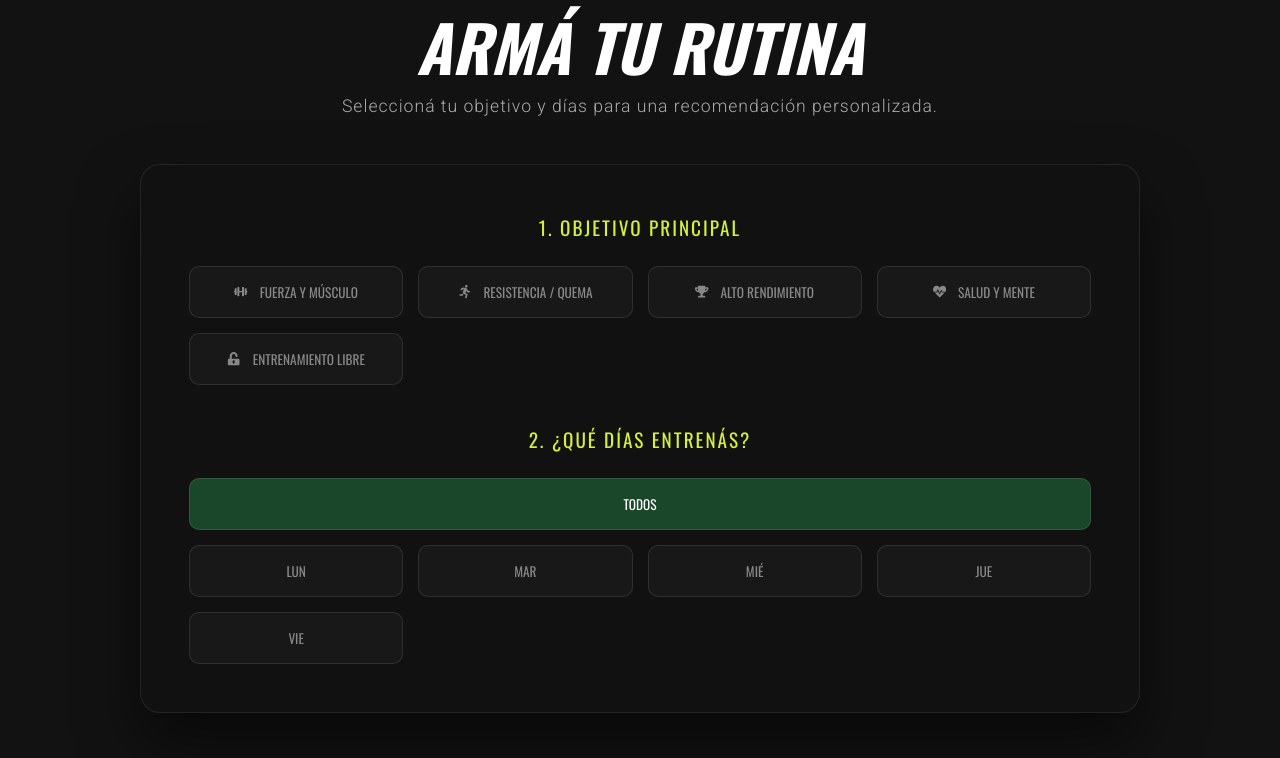
Scenario: Horarios — filtrado por objetivo › objetivo "Entrenamiento Libre" (tipo=libre) solo trae clases "Gimnasio Libre" del día elegido
The width and height of the screenshot is (1280, 758).
(page scrolled)
Click the button "Entrenamiento Libre": click(296, 359) x1=189 y1=333 x2=403 y2=385
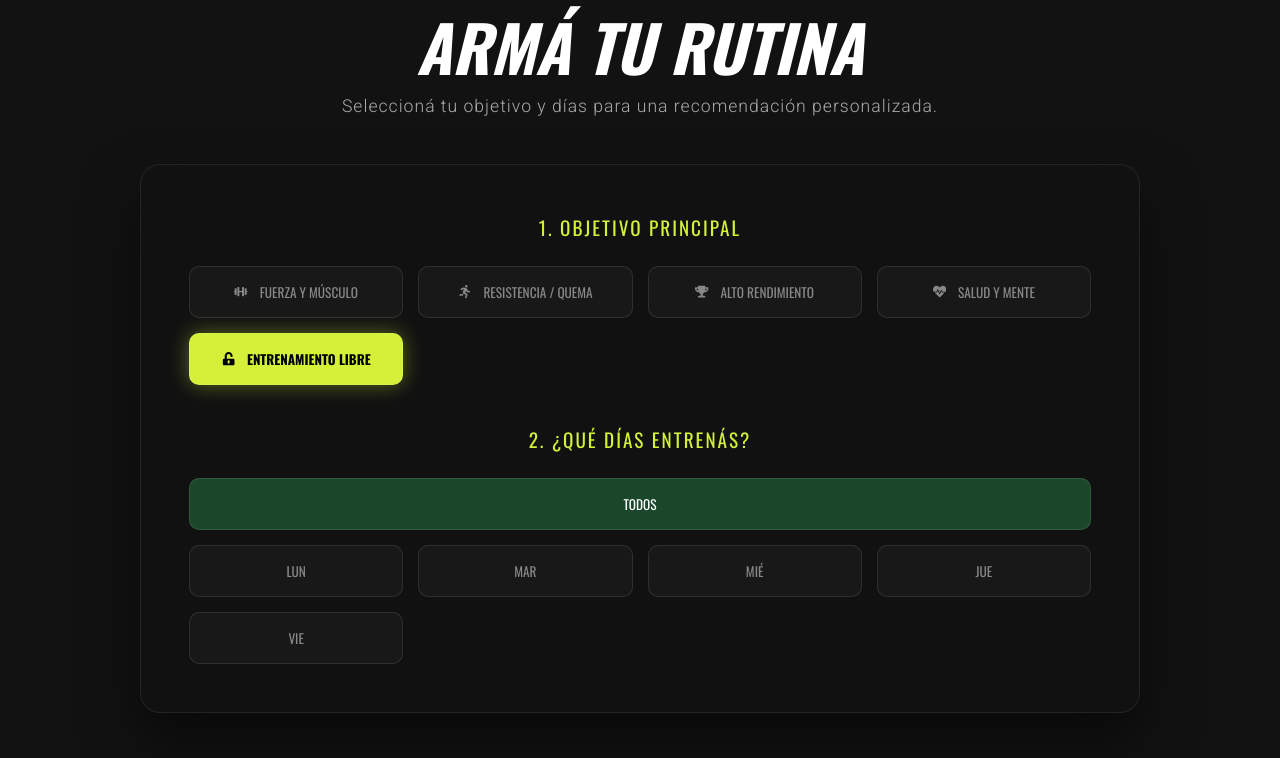
Click the button "Mar": click(525, 571) x1=418 y1=545 x2=633 y2=597
(page scrolled)
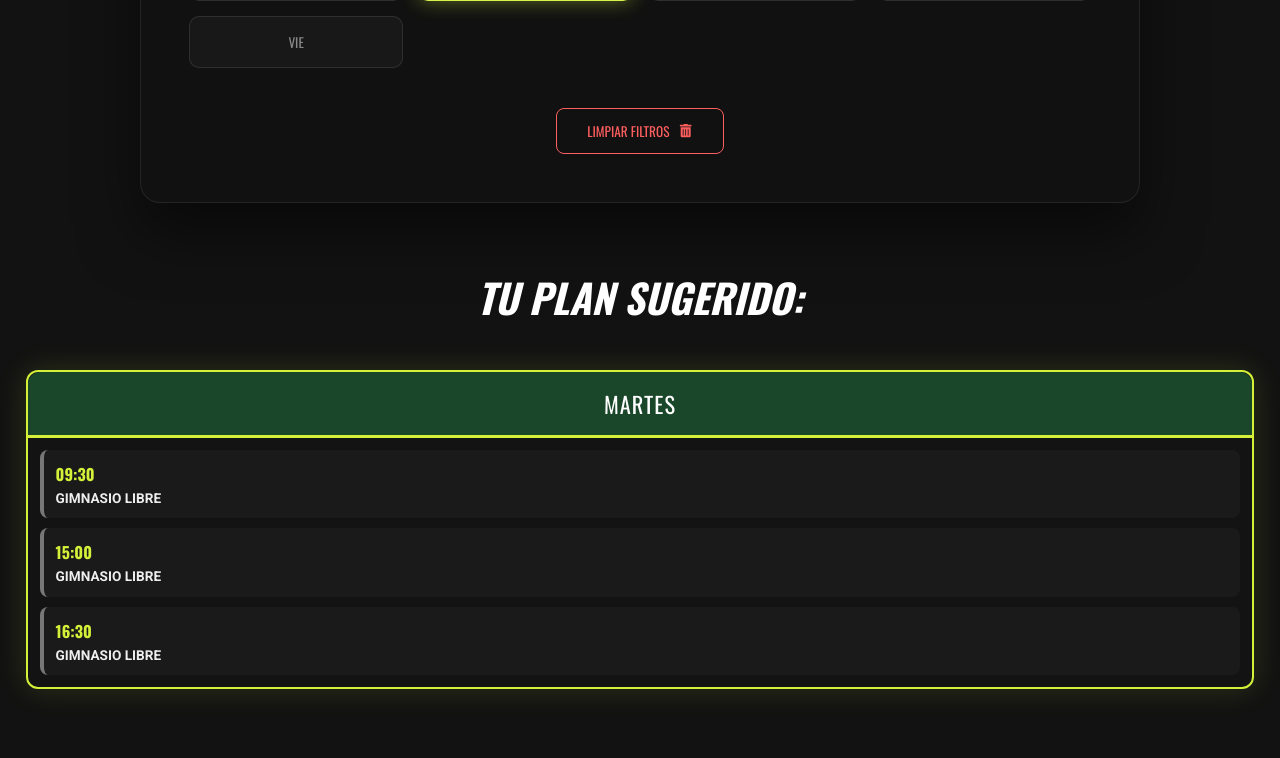
Expected: the 1st text "Gimnasio Libre" is shown, x1=56 y1=490 x2=161 y2=506
